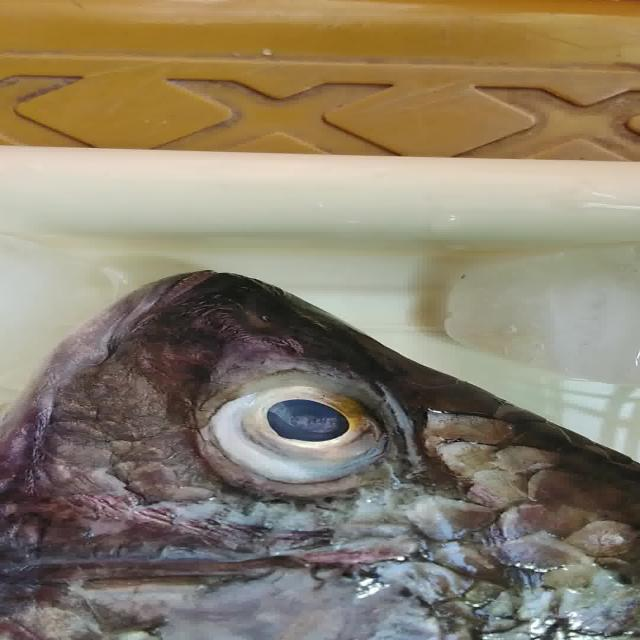Fresh: (204, 372, 402, 486)
